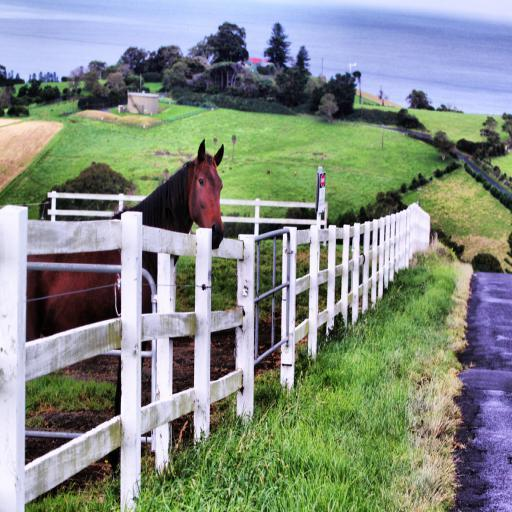horse: (24, 138, 226, 468)
